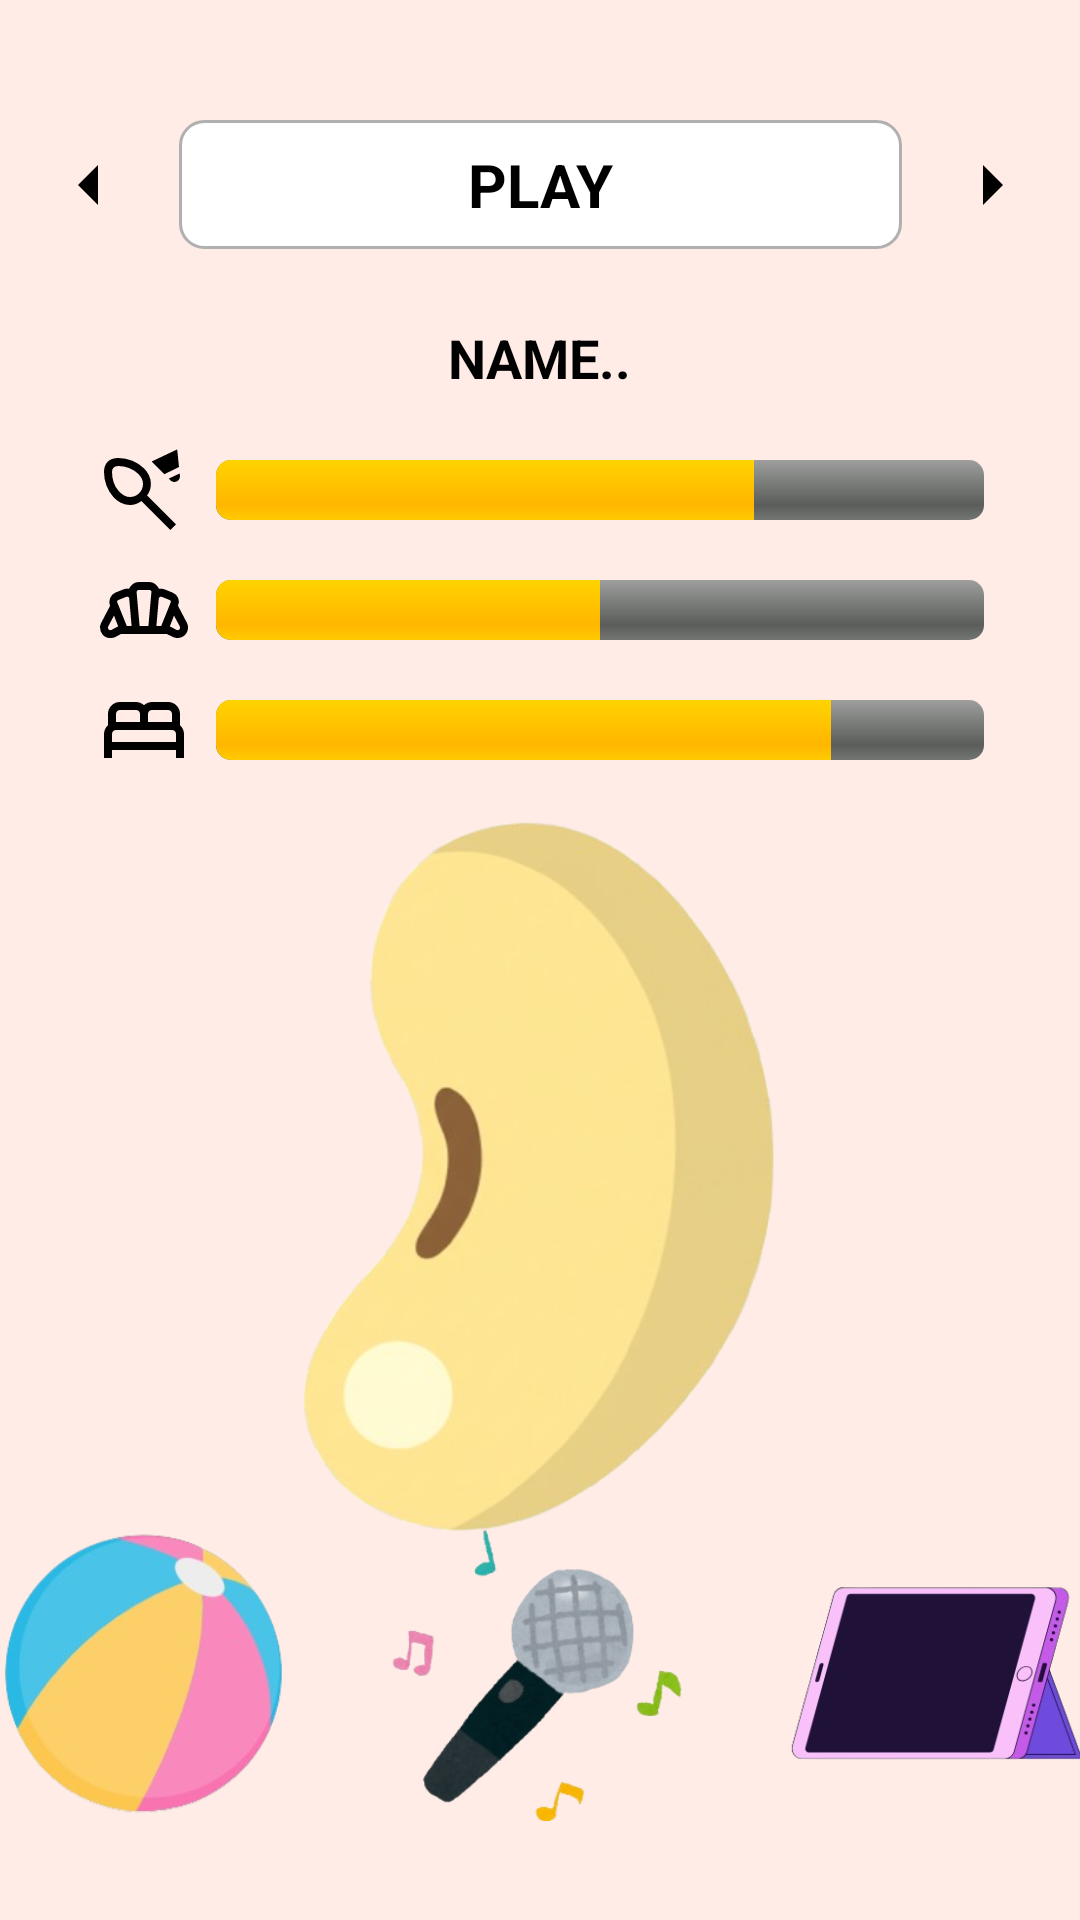

Named icons in this screenshot (1080×1920) and their bounding boxes, (x1, y1, x2, y2):
Food Status Icon: (100, 582, 188, 638)
Next Room: (983, 165, 1003, 205)
Play Music: (393, 1530, 682, 1821)
Play Status Icon: (104, 449, 180, 530)
Play with Ball: (5, 1534, 282, 1812)
Play with Tablet: (792, 1587, 1080, 1759)
Previous Room: (78, 165, 98, 205)
Sleep Status Icon: (104, 702, 184, 758)
